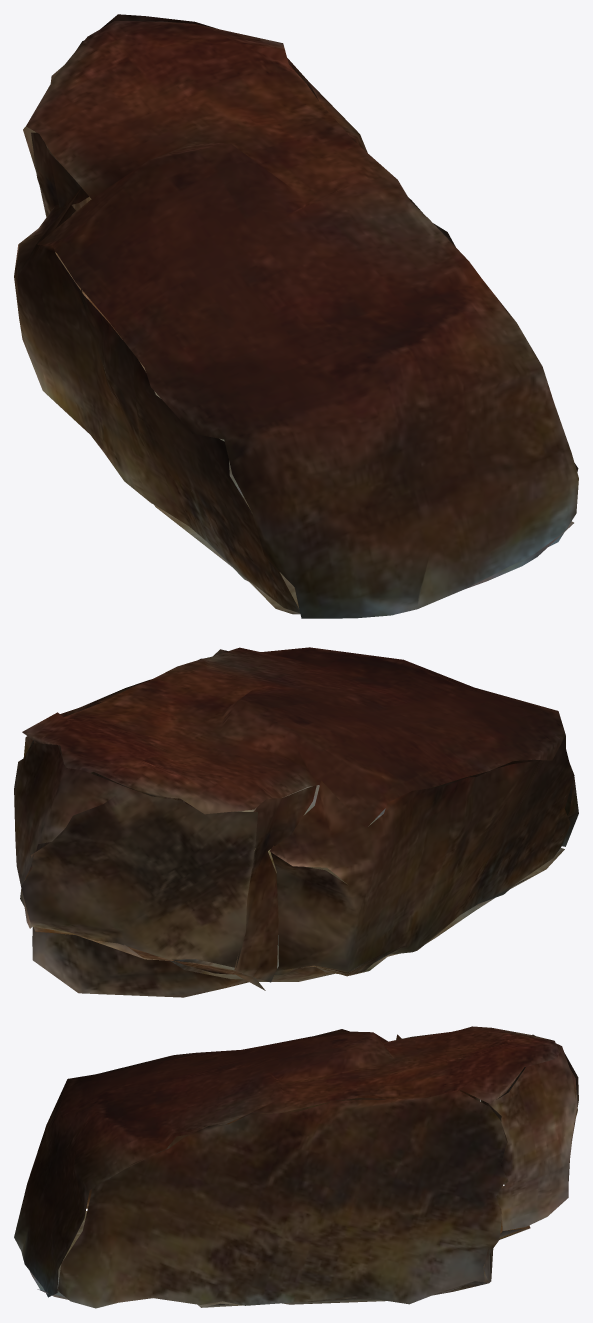
File: rock_07.glb
The picture shows the model from 3 angles, top to bottom: view 1: azimuth 30°, elevation 25°; view 2: azimuth 150°, elevation 25°; view 3: azimuth 270°, elevation 25°; orthographic projection. The views are drawn at different scales.
Parts seen in each view (by area): view 1: v0; view 2: v0; view 3: v0.
Part boxes in pixels (box(x1,y1,x2,y2)): v0: box(14, 14, 578, 618); v0: box(14, 647, 578, 997); v0: box(14, 1026, 578, 1308).
Bounding box in the file's own units: 0.5304 × 0.4479 × 1.
Materials: 1 (1 with a texture image).
